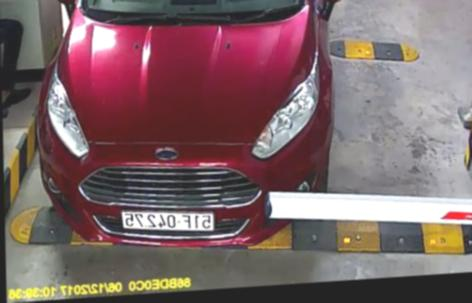License_Plate: (118, 204, 218, 239)
